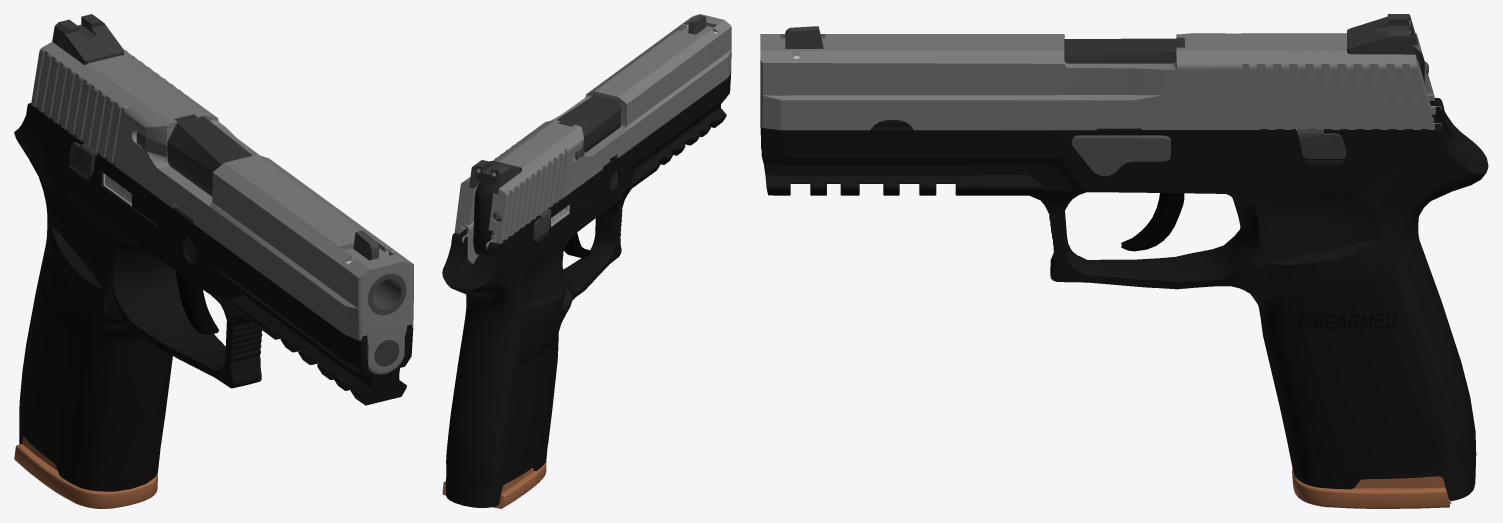
File: A3500X silver_0418.fbx
3 views of the same model, side by side, from view 1: azimuth 30°, elevation 25°; view 2: azimuth 150°, elevation 25°; view 3: azimuth 270°, elevation 25° (orthographic). The views are drawn at different scales.
Visible parts, largest first — view 1: frame_low, slid_low, behind barrel_low, magazinecover_low, behind scoop_low, trigger_low, front barrel_low, body cu_low, front scoop_low, screw_low; view 2: frame_low, slid_low, behind barrel_low, hammer_low, behind scoop_low, magazinecover_low, fcu_low, body cu_low, trigger_low; view 3: frame_low, slid_low, magazinecover_low, handofsrew_low, behind barrel_low, behind scoop_low, trigger_low, body cu_low, front scoop_low.
Part boxes in pixels (<box>): frame_low: <box>14,103,413,491</box>; slid_low: <box>31,42,413,374</box>; behind barrel_low: <box>167,114,252,196</box>; magazinecover_low: <box>14,436,157,508</box>; behind scoop_low: <box>52,14,123,64</box>; trigger_low: <box>175,271,218,334</box>; front barrel_low: <box>367,273,406,315</box>; body cu_low: <box>69,142,99,176</box>; front scoop_low: <box>353,230,378,260</box>; screw_low: <box>374,340,399,366</box>; frame_low: <box>442,72,731,507</box>; slid_low: <box>454,14,731,243</box>; behind barrel_low: <box>556,95,620,152</box>; hammer_low: <box>473,182,495,256</box>; behind scoop_low: <box>469,160,521,194</box>; magazinecover_low: <box>442,462,546,508</box>; fcu_low: <box>461,159,609,263</box>; body cu_low: <box>532,208,551,239</box>; trigger_low: <box>564,232,590,257</box>; frame_low: <box>760,98,1488,500</box>; slid_low: <box>760,33,1434,130</box>; magazinecover_low: <box>1292,469,1451,508</box>; handofsrew_low: <box>1071,135,1170,176</box>; behind barrel_low: <box>1064,38,1184,63</box>; behind scoop_low: <box>1347,14,1417,60</box>; trigger_low: <box>1121,193,1184,251</box>; body cu_low: <box>1297,128,1346,158</box>; front scoop_low: <box>785,26,823,48</box>.
Size of the model in its own units: 2.96 by 14.15 by 20.08.
